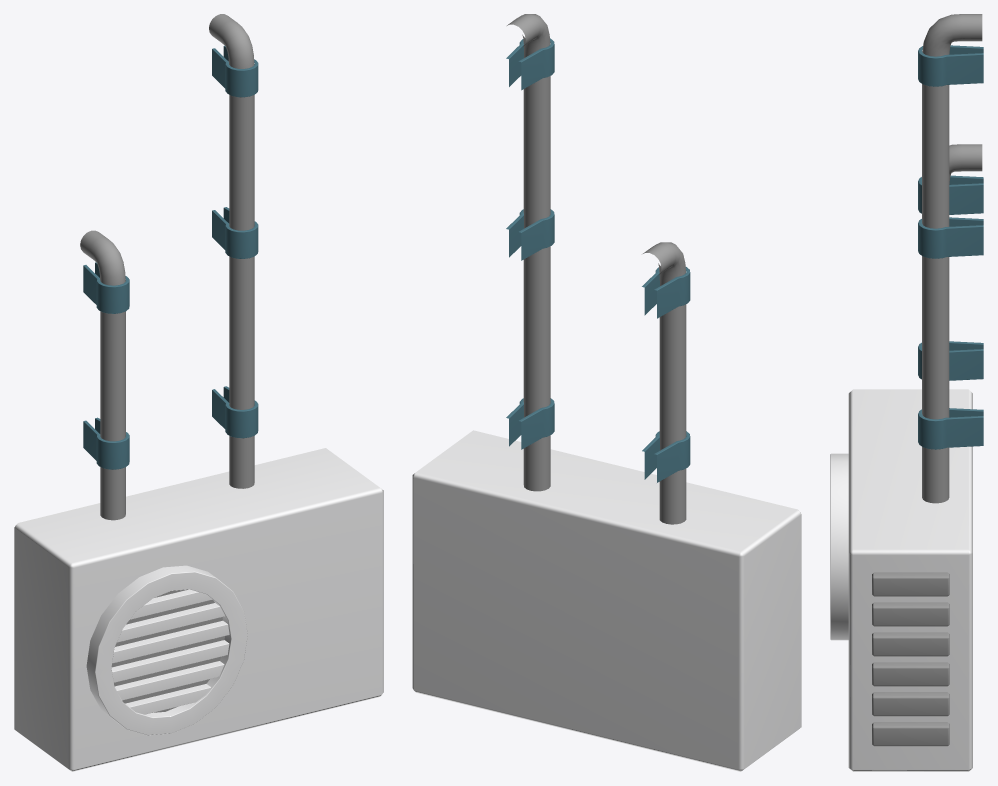
The model's file is City_6_Air_Conditioner_1.glb.
The picture shows the model from 3 angles, left to right: view 1: azimuth 30°, elevation 25°; view 2: azimuth 150°, elevation 25°; view 3: azimuth 270°, elevation 25°; orthographic projection. The views are drawn at different scales.
Visible parts, largest first — view 1: City_6_Air_Conditioner_1; view 2: City_6_Air_Conditioner_1; view 3: City_6_Air_Conditioner_1.
Part boxes in pixels (box(x1,y1,x2,y2)): City_6_Air_Conditioner_1: box(14, 14, 383, 771); City_6_Air_Conditioner_1: box(412, 14, 801, 771); City_6_Air_Conditioner_1: box(830, 14, 983, 771).
Size of the model in its own units: 1.53 by 2.99 by 0.5879.
Materials: 1 (1 with a texture image).
